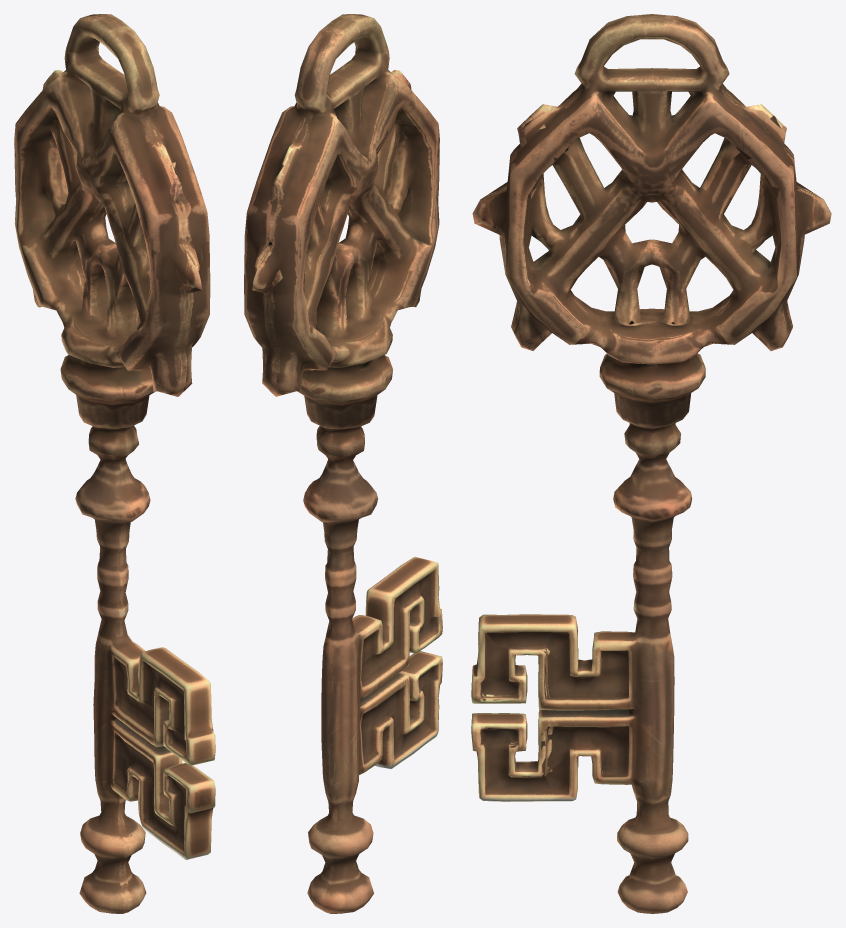
The model's file is key.glb.
3 views of the same model, side by side, from view 1: azimuth 30°, elevation 25°; view 2: azimuth 150°, elevation 25°; view 3: azimuth 270°, elevation 25° (orthographic).
Parts seen in each view (by area): view 1: Object_2; view 2: Object_2; view 3: Object_2.
Part boxes in pixels (x1=…): Object_2: x1=14, y1=14, x2=215, y2=913; Object_2: x1=244, y1=14, x2=442, y2=913; Object_2: x1=471, y1=14, x2=831, y2=913.
Size of the model in its own units: 43.84 by 415 by 151.
1 material, 1 textured.
